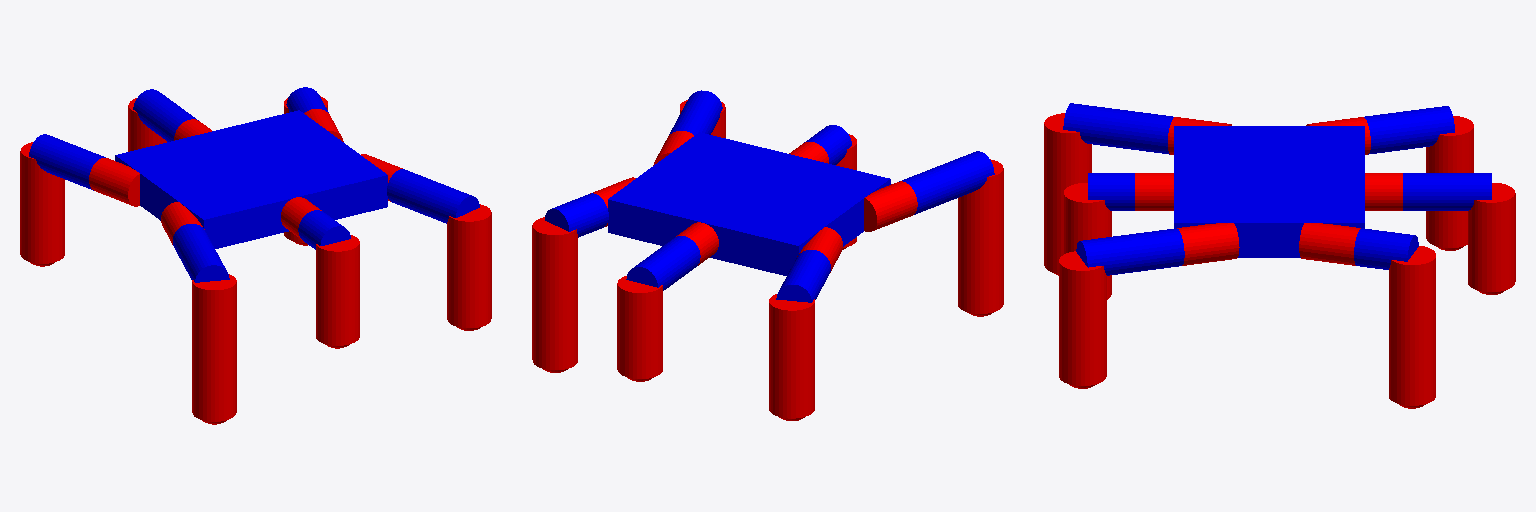
--- Facts derived from the render (not from the file) ---
Views: 3 orthographic renders of the robot side by side, from view 1: azimuth 30°, elevation 25°; view 2: azimuth 150°, elevation 25°; view 3: azimuth 270°, elevation 25°.
Model pexod with 19 links and 18 joints (18 revolute), rooted at base_link, posed all joints at 0.
Links seen in each view (by area): view 1: base_link, leg_5_3, leg_3_3, leg_4_3, leg_0_3, leg_3_2, leg_0_2, leg_5_2, leg_0_1, leg_1_2, leg_4_2, leg_1_3 (+3 smaller); view 2: base_link, leg_2_3, leg_5_3, leg_0_3, leg_1_3, leg_5_2, leg_1_2, leg_5_1, leg_0_2, leg_2_2, leg_3_2, leg_4_2 (+2 smaller); view 3: base_link, leg_2_3, leg_3_3, leg_1_3, leg_5_3, leg_5_2, leg_3_2, leg_0_3, leg_1_2, leg_0_2, leg_4_3, leg_2_1 (+5 smaller).
Link boxes in pixels (x1,y1,x2,y2): base_link: [115, 110, 387, 248]; leg_5_3: [192, 274, 236, 424]; leg_3_3: [447, 204, 491, 330]; leg_4_3: [316, 235, 359, 348]; leg_0_3: [20, 142, 64, 266]; leg_3_2: [387, 169, 479, 223]; leg_0_2: [29, 134, 105, 190]; leg_5_2: [173, 224, 229, 282]; leg_0_1: [89, 158, 139, 206]; leg_1_2: [133, 89, 198, 141]; leg_4_2: [298, 210, 350, 249]; leg_1_3: [128, 98, 166, 151]; base_link: [608, 132, 890, 275]; leg_2_3: [532, 217, 577, 372]; leg_5_3: [958, 159, 1003, 316]; leg_0_3: [769, 294, 814, 420]; leg_1_3: [617, 276, 662, 381]; leg_5_2: [899, 151, 994, 214]; leg_1_2: [626, 236, 700, 290]; leg_5_1: [864, 181, 917, 231]; leg_0_2: [776, 250, 830, 302]; leg_2_2: [545, 193, 608, 237]; leg_3_2: [669, 90, 722, 135]; leg_4_2: [804, 125, 851, 164]; base_link: [1174, 126, 1364, 257]; leg_2_3: [1389, 246, 1435, 408]; leg_3_3: [1059, 251, 1106, 388]; leg_1_3: [1468, 183, 1515, 294]; leg_5_3: [1044, 113, 1091, 275]; leg_5_2: [1063, 103, 1173, 154]; leg_3_2: [1076, 228, 1184, 275]; leg_0_3: [1426, 116, 1473, 250]; leg_1_2: [1403, 173, 1491, 210]; leg_0_2: [1364, 106, 1454, 154]; leg_4_3: [1064, 183, 1111, 299]; leg_2_1: [1299, 223, 1360, 265].
Size in the robot's own frame: 0.3903 by 0.492 by 0.196 metres.
Geometry: primitives only (box / cylinder / sphere), no mesh files.

The robot description file, URDF, robot "pexod":
<?xml version="1.0" ?>
<!-- =================================================================================== -->
<!-- |    This document was autogenerated by xacro from pexod.xacro                    | -->
<!-- |    EDITING THIS FILE BY HAND IS NOT RECOMMENDED                                 | -->
<!-- =================================================================================== -->
<robot name="pexod" xmlns:xacro="http://www.ros.org/wiki/xacro">
  <!-- <xacro:include filename="$(find pexod_description)/urdf/pexod_control.xacro" /> -->
  <!-- MATERIALS -->
  <material name="Blue">
    <color rgba="0 0 1 1"/>
  </material>
  <material name="Red">
    <color rgba="1 0 0 1"/>
  </material>
  <material name="Green">
    <color rgba="0 1 0 1"/>
  </material>
  <material name="Yellow">
    <color rgba="1 1 0 1"/>
  </material>
  <material name="LightGrey">
    <color rgba="0.6 0.6 0.6 1.0"/>
  </material>
  <!-- END OF MATERIALS -->
  <!-- XACRO MACROS FOR VISUALS AND COLLISIONS -->
  <!-- END OF XACRO MACROS -->
  <!-- TORSO -->
  <link name="base_link">
    <visual>
      <origin rpy="0 0 0" xyz="0 0 0"/>
      <geometry>
        <box size="0.24 0.2 0.04"/>
      </geometry>
      <material name="Blue"/>
    </visual>
    <collision>
      <origin rpy="0 0 0" xyz="0 0 0"/>
      <geometry>
        <box size="0.24 0.2 0.04"/>
      </geometry>
    </collision>
    <inertial>
      <!-- CENTER OF MASS -->
      <origin rpy="0 0 0" xyz="0 0 0"/>
      <mass value="1.031"/>
      <!-- box inertia: 1/12*m(y^2+z^2), ... -->
      <inertia ixx="0.00357413333333" ixy="0" ixz="0" iyy="0.00508626666667" iyz="0" izz="0.00838546666667"/>
    </inertial>
  </link>
  <!-- XACRO MACRO FOR LEGS LINKS/JOINTS -->
  <!-- END OF LEG LINKS/JOINTS -->
  <joint name="body_leg_2" type="revolute">
    <parent link="base_link"/>
    <child link="leg_2_1"/>
    <limit effort="30.0" lower="-1.57079632679" upper="1.57079632679" velocity="7.0"/>
    <origin rpy="0 0 -0.3" xyz="0.11 0.04 0"/>
    <!-- <xacro:if value="${index == 5 or index == 4 or index == 3}">
                <axis xyz="0 0 1"/>
            </xacro:if>
            <xacro:if value="${index == 2 or index == 1 or index == 0}"> -->
    <axis xyz="0 0 1"/>
    <!-- </xacro:if> -->
    <dynamics damping="0.0"/>
  </joint>
  <link name="leg_2_1">
    <visual>
      <origin rpy="1.57079632679 0 0" xyz="0.01 0.03 0"/>
      <geometry>
        <cylinder length="0.06" radius="0.02"/>
      </geometry>
      <material name="Red"/>
    </visual>
    <collision>
      <origin rpy="1.57079632679 0 0" xyz="0.01 0.03 0"/>
      <geometry>
        <box size="0.02 0.02 0.06"/>
      </geometry>
    </collision>
    <inertial>
      <!-- CENTER OF MASS -->
      <origin rpy="1.57079632679 0 0" xyz="0.01 0.03 0"/>
      <mass value="0.02"/>
      <!-- box inertia: 1/12*m(y^2+z^2), ... -->
      <inertia ixx="6.66666666667e-06" ixy="0" ixz="0" iyy="6.66666666667e-06" iyz="0" izz="1.33333333333e-06"/>
    </inertial>
  </link>
  <joint name="leg_2_1_2" type="revolute">
    <parent link="leg_2_1"/>
    <child link="leg_2_2"/>
    <limit effort="30.0" lower="-0.78539816339" upper="0.78539816339" velocity="7.0"/>
    <origin rpy="0 0 0" xyz="0 0.06 0"/>
    <axis xyz="1 0 0"/>
    <dynamics damping="0.0"/>
  </joint>
  <link name="leg_2_2">
    <visual>
      <origin rpy="1.57079632679 0 0" xyz="0.01 0.0292048493246 0"/>
      <geometry>
        <cylinder length="0.0584096986492" radius="0.02"/>
      </geometry>
      <material name="Blue"/>
    </visual>
    <collision>
      <origin rpy="1.57079632679 0 0" xyz="0.01 0.0292048493246 0"/>
      <geometry>
        <box size="0.02 0.02 0.0584096986492"/>
      </geometry>
    </collision>
    <inertial>
      <!-- CENTER OF MASS -->
      <origin rpy="1.57079632679 0 0" xyz="0.01 0.0292048493246 0"/>
      <mass value="0.184"/>
      <!-- box inertia: 1/12*m(y^2+z^2), ... -->
      <inertia ixx="5.84459577431e-05" ixy="0" ixz="0" iyy="5.84459577431e-05" iyz="0" izz="1.22666666667e-05"/>
    </inertial>
  </link>
  <joint name="leg_2_2_3" type="revolute">
    <parent link="leg_2_2"/>
    <child link="leg_2_3"/>
    <limit effort="30.0" lower="-0.78539816339" upper="0.78539816339" velocity="7.0"/>
    <origin rpy="-1.57079632679 0 0" xyz="0 0.0584096986492 0"/>
    <axis xyz="-1 0 0"/>
    <dynamics damping="0.0"/>
  </joint>
  <link name="leg_2_3">
    <visual>
      <origin rpy="1.57079632679 0 0" xyz="0.0125 0.081053760138 0"/>
      <geometry>
        <cylinder length="0.162107520276" radius="0.025"/>
      </geometry>
      <material name="Red"/>
    </visual>
    <visual>
      <origin rpy="1.57079632679 0 0" xyz="0.0125 0.149607520276 0"/>
      <geometry>
        <sphere radius="0.025"/>
      </geometry>
      <material name="Red"/>
    </visual>
    <collision>
      <origin rpy="1.57079632679 0 0" xyz="0.0125 0.081053760138 0"/>
      <geometry>
        <box size="0.025 0.025 0.162107520276"/>
      </geometry>
    </collision>
    <collision>
      <origin rpy="1.57079632679 0 0" xyz="0.0125 0.149607520276 0"/>
      <geometry>
        <sphere radius="0.025"/>
      </geometry>
      <material name="Red"/>
    </collision>
    <inertial>
      <!-- CENTER OF MASS -->
      <origin rpy="1.57079632679 0 0" xyz="0.0125 0.081053760138 0"/>
      <mass value="0.04"/>
      <!-- box inertia: 1/12*m(y^2+z^2), ... -->
      <inertia ixx="8.96794937668e-05" ixy="0" ixz="0" iyy="8.96794937668e-05" iyz="0" izz="4.16666666667e-06"/>
    </inertial>
  </link>
  <joint name="body_leg_3" type="revolute">
    <parent link="base_link"/>
    <child link="leg_3_1"/>
    <limit effort="30.0" lower="-1.57079632679" upper="1.57079632679" velocity="7.0"/>
    <origin rpy="0 0 0.3" xyz="0.11 -0.04 0"/>
    <!-- <xacro:if value="${index == 5 or index == 4 or index == 3}">
                <axis xyz="0 0 1"/>
            </xacro:if>
            <xacro:if value="${index == 2 or index == 1 or index == 0}"> -->
    <axis xyz="0 0 1"/>
    <!-- </xacro:if> -->
    <dynamics damping="0.0"/>
  </joint>
  <link name="leg_3_1">
    <visual>
      <origin rpy="1.57079632679 0 0" xyz="0.01 -0.03 0"/>
      <geometry>
        <cylinder length="0.06" radius="0.02"/>
      </geometry>
      <material name="Red"/>
    </visual>
    <collision>
      <origin rpy="1.57079632679 0 0" xyz="0.01 -0.03 0"/>
      <geometry>
        <box size="0.02 0.02 0.06"/>
      </geometry>
    </collision>
    <inertial>
      <!-- CENTER OF MASS -->
      <origin rpy="1.57079632679 0 0" xyz="0.01 -0.03 0"/>
      <mass value="0.02"/>
      <!-- box inertia: 1/12*m(y^2+z^2), ... -->
      <inertia ixx="6.66666666667e-06" ixy="0" ixz="0" iyy="6.66666666667e-06" iyz="0" izz="1.33333333333e-06"/>
    </inertial>
  </link>
  <joint name="leg_3_1_2" type="revolute">
    <parent link="leg_3_1"/>
    <child link="leg_3_2"/>
    <limit effort="30.0" lower="-0.78539816339" upper="0.78539816339" velocity="7.0"/>
    <origin rpy="0 0 0" xyz="0 -0.06 0"/>
    <axis xyz="-1 0 0"/>
    <dynamics damping="0.0"/>
  </joint>
  <link name="leg_3_2">
    <visual>
      <origin rpy="1.57079632679 0 0" xyz="0.01 -0.0530001100515 0"/>
      <geometry>
        <cylinder length="0.106000220103" radius="0.02"/>
      </geometry>
      <material name="Blue"/>
    </visual>
    <collision>
      <origin rpy="1.57079632679 0 0" xyz="0.01 -0.0530001100515 0"/>
      <geometry>
        <box size="0.02 0.02 0.106000220103"/>
      </geometry>
    </collision>
    <inertial>
      <!-- CENTER OF MASS -->
      <origin rpy="1.57079632679 0 0" xyz="0.01 -0.0530001100515 0"/>
      <mass value="0.184"/>
      <!-- box inertia: 1/12*m(y^2+z^2), ... -->
      <inertia ixx="0.000178419382149" ixy="0" ixz="0" iyy="0.000178419382149" iyz="0" izz="1.22666666667e-05"/>
    </inertial>
  </link>
  <joint name="leg_3_2_3" type="revolute">
    <parent link="leg_3_2"/>
    <child link="leg_3_3"/>
    <limit effort="30.0" lower="-0.78539816339" upper="0.78539816339" velocity="7.0"/>
    <origin rpy="1.57079632679 0 0" xyz="0 -0.106000220103 0"/>
    <axis xyz="1 0 0"/>
    <dynamics damping="0.0"/>
  </joint>
  <link name="leg_3_3">
    <visual>
      <origin rpy="1.57079632679 0 0" xyz="0.0125 -0.066371414939 0"/>
      <geometry>
        <cylinder length="0.132742829878" radius="0.025"/>
      </geometry>
      <material name="Red"/>
    </visual>
    <visual>
      <origin rpy="1.57079632679 0 0" xyz="0.0125 -0.120242829878 0"/>
      <geometry>
        <sphere radius="0.025"/>
      </geometry>
      <material name="Red"/>
    </visual>
    <collision>
      <origin rpy="1.57079632679 0 0" xyz="0.0125 -0.066371414939 0"/>
      <geometry>
        <box size="0.025 0.025 0.132742829878"/>
      </geometry>
    </collision>
    <collision>
      <origin rpy="1.57079632679 0 0" xyz="0.0125 -0.120242829878 0"/>
      <geometry>
        <sphere radius="0.025"/>
      </geometry>
      <material name="Red"/>
    </collision>
    <inertial>
      <!-- CENTER OF MASS -->
      <origin rpy="1.57079632679 0 0" xyz="0.0125 -0.066371414939 0"/>
      <mass value="0.04"/>
      <!-- box inertia: 1/12*m(y^2+z^2), ... -->
      <inertia ixx="6.08188629467e-05" ixy="0" ixz="0" iyy="6.08188629467e-05" iyz="0" izz="4.16666666667e-06"/>
    </inertial>
  </link>
  <joint name="body_leg_0" type="revolute">
    <parent link="base_link"/>
    <child link="leg_0_1"/>
    <limit effort="30.0" lower="-1.57079632679" upper="1.57079632679" velocity="7.0"/>
    <origin rpy="0 0 0.3" xyz="-0.13 0.04 0"/>
    <!-- <xacro:if value="${index == 5 or index == 4 or index == 3}">
                <axis xyz="0 0 1"/>
            </xacro:if>
            <xacro:if value="${index == 2 or index == 1 or index == 0}"> -->
    <axis xyz="0 0 1"/>
    <!-- </xacro:if> -->
    <dynamics damping="0.0"/>
  </joint>
  <link name="leg_0_1">
    <visual>
      <origin rpy="1.57079632679 0 0" xyz="0.01 0.03 0"/>
      <geometry>
        <cylinder length="0.06" radius="0.02"/>
      </geometry>
      <material name="Red"/>
    </visual>
    <collision>
      <origin rpy="1.57079632679 0 0" xyz="0.01 0.03 0"/>
      <geometry>
        <box size="0.02 0.02 0.06"/>
      </geometry>
    </collision>
    <inertial>
      <!-- CENTER OF MASS -->
      <origin rpy="1.57079632679 0 0" xyz="0.01 0.03 0"/>
      <mass value="0.02"/>
      <!-- box inertia: 1/12*m(y^2+z^2), ... -->
      <inertia ixx="6.66666666667e-06" ixy="0" ixz="0" iyy="6.66666666667e-06" iyz="0" izz="1.33333333333e-06"/>
    </inertial>
  </link>
  <joint name="leg_0_1_2" type="revolute">
    <parent link="leg_0_1"/>
    <child link="leg_0_2"/>
    <limit effort="30.0" lower="-0.78539816339" upper="0.78539816339" velocity="7.0"/>
    <origin rpy="0 0 0" xyz="0 0.06 0"/>
    <axis xyz="1 0 0"/>
    <dynamics damping="0.0"/>
  </joint>
  <link name="leg_0_2">
    <visual>
      <origin rpy="1.57079632679 0 0" xyz="0.01 0.046004946711 0"/>
      <geometry>
        <cylinder length="0.092009893422" radius="0.02"/>
      </geometry>
      <material name="Blue"/>
    </visual>
    <collision>
      <origin rpy="1.57079632679 0 0" xyz="0.01 0.046004946711 0"/>
      <geometry>
        <box size="0.02 0.02 0.092009893422"/>
      </geometry>
    </collision>
    <inertial>
      <!-- CENTER OF MASS -->
      <origin rpy="1.57079632679 0 0" xyz="0.01 0.046004946711 0"/>
      <mass value="0.184"/>
      <!-- box inertia: 1/12*m(y^2+z^2), ... -->
      <inertia ixx="0.000135942580809" ixy="0" ixz="0" iyy="0.000135942580809" iyz="0" izz="1.22666666667e-05"/>
    </inertial>
  </link>
  <joint name="leg_0_2_3" type="revolute">
    <parent link="leg_0_2"/>
    <child link="leg_0_3"/>
    <limit effort="30.0" lower="-0.78539816339" upper="0.78539816339" velocity="7.0"/>
    <origin rpy="-1.57079632679 0 0" xyz="0 0.092009893422 0"/>
    <axis xyz="-1 0 0"/>
    <dynamics damping="0.0"/>
  </joint>
  <link name="leg_0_3">
    <visual>
      <origin rpy="1.57079632679 0 0" xyz="0.0125 0.0647824888495 0"/>
      <geometry>
        <cylinder length="0.129564977699" radius="0.025"/>
      </geometry>
      <material name="Red"/>
    </visual>
    <visual>
      <origin rpy="1.57079632679 0 0" xyz="0.0125 0.117064977699 0"/>
      <geometry>
        <sphere radius="0.025"/>
      </geometry>
      <material name="Red"/>
    </visual>
    <collision>
      <origin rpy="1.57079632679 0 0" xyz="0.0125 0.0647824888495 0"/>
      <geometry>
        <box size="0.025 0.025 0.129564977699"/>
      </geometry>
    </collision>
    <collision>
      <origin rpy="1.57079632679 0 0" xyz="0.0125 0.117064977699 0"/>
      <geometry>
        <sphere radius="0.025"/>
      </geometry>
      <material name="Red"/>
    </collision>
    <inertial>
      <!-- CENTER OF MASS -->
      <origin rpy="1.57079632679 0 0" xyz="0.0125 0.0647824888495 0"/>
      <mass value="0.04"/>
      <!-- box inertia: 1/12*m(y^2+z^2), ... -->
      <inertia ixx="5.80402781538e-05" ixy="0" ixz="0" iyy="5.80402781538e-05" iyz="0" izz="4.16666666667e-06"/>
    </inertial>
  </link>
  <joint name="body_leg_5" type="revolute">
    <parent link="base_link"/>
    <child link="leg_5_1"/>
    <limit effort="30.0" lower="-1.57079632679" upper="1.57079632679" velocity="7.0"/>
    <origin rpy="0 0 -0.3" xyz="-0.13 -0.04 0"/>
    <!-- <xacro:if value="${index == 5 or index == 4 or index == 3}">
                <axis xyz="0 0 1"/>
            </xacro:if>
            <xacro:if value="${index == 2 or index == 1 or index == 0}"> -->
    <axis xyz="0 0 1"/>
    <!-- </xacro:if> -->
    <dynamics damping="0.0"/>
  </joint>
  <link name="leg_5_1">
    <visual>
      <origin rpy="1.57079632679 0 0" xyz="0.01 -0.03 0"/>
      <geometry>
        <cylinder length="0.06" radius="0.02"/>
      </geometry>
      <material name="Red"/>
    </visual>
    <collision>
      <origin rpy="1.57079632679 0 0" xyz="0.01 -0.03 0"/>
      <geometry>
        <box size="0.02 0.02 0.06"/>
      </geometry>
    </collision>
    <inertial>
      <!-- CENTER OF MASS -->
      <origin rpy="1.57079632679 0 0" xyz="0.01 -0.03 0"/>
      <mass value="0.02"/>
      <!-- box inertia: 1/12*m(y^2+z^2), ... -->
      <inertia ixx="6.66666666667e-06" ixy="0" ixz="0" iyy="6.66666666667e-06" iyz="0" izz="1.33333333333e-06"/>
    </inertial>
  </link>
  <joint name="leg_5_1_2" type="revolute">
    <parent link="leg_5_1"/>
    <child link="leg_5_2"/>
    <limit effort="30.0" lower="-0.78539816339" upper="0.78539816339" velocity="7.0"/>
    <origin rpy="0 0 0" xyz="0 -0.06 0"/>
    <axis xyz="-1 0 0"/>
    <dynamics damping="0.0"/>
  </joint>
  <link name="leg_5_2">
    <visual>
      <origin rpy="1.57079632679 0 0" xyz="0.01 -0.0570124812155 0"/>
      <geometry>
        <cylinder length="0.114024962431" radius="0.02"/>
      </geometry>
      <material name="Blue"/>
    </visual>
    <collision>
      <origin rpy="1.57079632679 0 0" xyz="0.01 -0.0570124812155 0"/>
      <geometry>
        <box size="0.02 0.02 0.114024962431"/>
      </geometry>
    </collision>
    <inertial>
      <!-- CENTER OF MASS -->
      <origin rpy="1.57079632679 0 0" xyz="0.01 -0.0570124812155 0"/>
      <mass value="0.184"/>
      <!-- box inertia: 1/12*m(y^2+z^2), ... -->
      <inertia ixx="0.000205492611547" ixy="0" ixz="0" iyy="0.000205492611547" iyz="0" izz="1.22666666667e-05"/>
    </inertial>
  </link>
  <joint name="leg_5_2_3" type="revolute">
    <parent link="leg_5_2"/>
    <child link="leg_5_3"/>
    <limit effort="30.0" lower="-0.78539816339" upper="0.78539816339" velocity="7.0"/>
    <origin rpy="1.57079632679 0 0" xyz="0 -0.114024962431 0"/>
    <axis xyz="1 0 0"/>
    <dynamics damping="0.0"/>
  </joint>
  <link name="leg_5_3">
    <visual>
      <origin rpy="1.57079632679 0 0" xyz="0.0125 -0.0817643147595 0"/>
      <geometry>
        <cylinder length="0.163528629519" radius="0.025"/>
      </geometry>
      <material name="Red"/>
    </visual>
    <visual>
      <origin rpy="1.57079632679 0 0" xyz="0.0125 -0.151028629519 0"/>
      <geometry>
        <sphere radius="0.025"/>
      </geometry>
      <material name="Red"/>
    </visual>
    <collision>
      <origin rpy="1.57079632679 0 0" xyz="0.0125 -0.0817643147595 0"/>
      <geometry>
        <box size="0.025 0.025 0.163528629519"/>
      </geometry>
    </collision>
    <collision>
      <origin rpy="1.57079632679 0 0" xyz="0.0125 -0.151028629519 0"/>
      <geometry>
        <sphere radius="0.025"/>
      </geometry>
      <material name="Red"/>
    </collision>
    <inertial>
      <!-- CENTER OF MASS -->
      <origin rpy="1.57079632679 0 0" xyz="0.0125 -0.0817643147595 0"/>
      <mass value="0.04"/>
      <!-- box inertia: 1/12*m(y^2+z^2), ... -->
      <inertia ixx="9.12220422412e-05" ixy="0" ixz="0" iyy="9.12220422412e-05" iyz="0" izz="4.16666666667e-06"/>
    </inertial>
  </link>
  <joint name="body_leg_1" type="revolute">
    <parent link="base_link"/>
    <child link="leg_1_1"/>
    <limit effort="30.0" lower="-1.57079632679" upper="1.57079632679" velocity="7.0"/>
    <origin rpy="0 0 0" xyz="-0.01 0.08 0"/>
    <!-- <xacro:if value="${index == 5 or index == 4 or index == 3}">
                <axis xyz="0 0 1"/>
            </xacro:if>
            <xacro:if value="${index == 2 or index == 1 or index == 0}"> -->
    <axis xyz="0 0 1"/>
    <!-- </xacro:if> -->
    <dynamics damping="0.0"/>
  </joint>
  <link name="leg_1_1">
    <visual>
      <origin rpy="1.57079632679 0 0" xyz="0.01 0.03 0"/>
      <geometry>
        <cylinder length="0.06" radius="0.02"/>
      </geometry>
      <material name="Red"/>
    </visual>
    <collision>
      <origin rpy="1.57079632679 0 0" xyz="0.01 0.03 0"/>
      <geometry>
        <box size="0.02 0.02 0.06"/>
      </geometry>
    </collision>
    <inertial>
      <!-- CENTER OF MASS -->
      <origin rpy="1.57079632679 0 0" xyz="0.01 0.03 0"/>
      <mass value="0.02"/>
      <!-- box inertia: 1/12*m(y^2+z^2), ... -->
      <inertia ixx="6.66666666667e-06" ixy="0" ixz="0" iyy="6.66666666667e-06" iyz="0" izz="1.33333333333e-06"/>
    </inertial>
  </link>
  <joint name="leg_1_1_2" type="revolute">
    <parent link="leg_1_1"/>
    <child link="leg_1_2"/>
    <limit effort="30.0" lower="-0.78539816339" upper="0.78539816339" velocity="7.0"/>
    <origin rpy="0 0 0" xyz="0 0.06 0"/>
    <axis xyz="1 0 0"/>
    <dynamics damping="0.0"/>
  </joint>
  <link name="leg_1_2">
    <visual>
      <origin rpy="1.57079632679 0 0" xyz="0.01 0.0460774121949 0"/>
      <geometry>
        <cylinder length="0.0921548243897" radius="0.02"/>
      </geometry>
      <material name="Blue"/>
    </visual>
    <collision>
      <origin rpy="1.57079632679 0 0" xyz="0.01 0.0460774121949 0"/>
      <geometry>
        <box size="0.02 0.02 0.0921548243897"/>
      </geometry>
    </collision>
    <inertial>
      <!-- CENTER OF MASS -->
      <origin rpy="1.57079632679 0 0" xyz="0.01 0.0460774121949 0"/>
      <mass value="0.184"/>
      <!-- box inertia: 1/12*m(y^2+z^2), ... -->
      <inertia ixx="0.000136351845427" ixy="0" ixz="0" iyy="0.000136351845427" iyz="0" izz="1.22666666667e-05"/>
    </inertial>
  </link>
  <joint name="leg_1_2_3" type="revolute">
    <parent link="leg_1_2"/>
    <child link="leg_1_3"/>
    <limit effort="30.0" lower="-0.78539816339" upper="0.78539816339" velocity="7.0"/>
    <origin rpy="-1.57079632679 0 0" xyz="0 0.0921548243897 0"/>
    <axis xyz="-1 0 0"/>
    <dynamics damping="0.0"/>
  </joint>
  <link name="leg_1_3">
    <visual>
      <origin rpy="1.57079632679 0 0" xyz="0.0125 0.0516465854435 0"/>
      <geometry>
        <cylinder length="0.103293170887" radius="0.025"/>
      </geometry>
      <material name="Red"/>
    </visual>
    <visual>
      <origin rpy="1.57079632679 0 0" xyz="0.0125 0.090793170887 0"/>
      <geometry>
        <sphere radius="0.025"/>
      </geometry>
      <material name="Red"/>
    </visual>
    <collision>
      <origin rpy="1.57079632679 0 0" xyz="0.0125 0.0516465854435 0"/>
      <geometry>
        <box size="0.025 0.025 0.103293170887"/>
      </geometry>
    </collision>
    <collision>
      <origin rpy="1.57079632679 0 0" xyz="0.0125 0.090793170887 0"/>
      <geometry>
        <sphere radius="0.025"/>
      </geometry>
      <material name="Red"/>
    </collision>
    <inertial>
      <!-- CENTER OF MASS -->
      <origin rpy="1.57079632679 0 0" xyz="0.0125 0.0516465854435 0"/>
      <mass value="0.04"/>
      <!-- box inertia: 1/12*m(y^2+z^2), ... -->
      <inertia ixx="3.76482638396e-05" ixy="0" ixz="0" iyy="3.76482638396e-05" iyz="0" izz="4.16666666667e-06"/>
    </inertial>
  </link>
  <joint name="body_leg_4" type="revolute">
    <parent link="base_link"/>
    <child link="leg_4_1"/>
    <limit effort="30.0" lower="-1.57079632679" upper="1.57079632679" velocity="7.0"/>
    <origin rpy="0 0 0" xyz="-0.01 -0.08 0"/>
    <!-- <xacro:if value="${index == 5 or index == 4 or index == 3}">
                <axis xyz="0 0 1"/>
            </xacro:if>
            <xacro:if value="${index == 2 or index == 1 or index == 0}"> -->
    <axis xyz="0 0 1"/>
    <!-- </xacro:if> -->
    <dynamics damping="0.0"/>
  </joint>
  <link name="leg_4_1">
    <visual>
      <origin rpy="1.57079632679 0 0" xyz="0.01 -0.03 0"/>
      <geometry>
        <cylinder length="0.06" radius="0.02"/>
      </geometry>
      <material name="Red"/>
    </visual>
    <collision>
      <origin rpy="1.57079632679 0 0" xyz="0.01 -0.03 0"/>
      <geometry>
        <box size="0.02 0.02 0.06"/>
      </geometry>
    </collision>
    <inertial>
      <!-- CENTER OF MASS -->
      <origin rpy="1.57079632679 0 0" xyz="0.01 -0.03 0"/>
      <mass value="0.02"/>
      <!-- box inertia: 1/12*m(y^2+z^2), ... -->
      <inertia ixx="6.66666666667e-06" ixy="0" ixz="0" iyy="6.66666666667e-06" iyz="0" izz="1.33333333333e-06"/>
    </inertial>
  </link>
  <joint name="leg_4_1_2" type="revolute">
    <parent link="leg_4_1"/>
    <child link="leg_4_2"/>
    <limit effort="30.0" lower="-0.78539816339" upper="0.78539816339" velocity="7.0"/>
    <origin rpy="0 0 0" xyz="0 -0.06 0"/>
    <axis xyz="-1 0 0"/>
    <dynamics damping="0.0"/>
  </joint>
  <link name="leg_4_2">
    <visual>
      <origin rpy="1.57079632679 0 0" xyz="0.01 -0.0248901907418 0"/>
      <geometry>
        <cylinder length="0.0497803814836" radius="0.02"/>
      </geometry>
      <material name="Blue"/>
    </visual>
    <collision>
      <origin rpy="1.57079632679 0 0" xyz="0.01 -0.0248901907418 0"/>
      <geometry>
        <box size="0.02 0.02 0.0497803814836"/>
      </geometry>
    </collision>
    <inertial>
      <!-- CENTER OF MASS -->
      <origin rpy="1.57079632679 0 0" xyz="0.01 -0.0248901907418 0"/>
      <mass value="0.184"/>
      <!-- box inertia: 1/12*m(y^2+z^2), ... -->
      <inertia ixx="4.41306578367e-05" ixy="0" ixz="0" iyy="4.41306578367e-05" iyz="0" izz="1.22666666667e-05"/>
    </inertial>
  </link>
  <joint name="leg_4_2_3" type="revolute">
    <parent link="leg_4_2"/>
    <child link="leg_4_3"/>
    <limit effort="30.0" lower="-0.78539816339" upper="0.78539816339" velocity="7.0"/>
    <origin rpy="1.57079632679 0 0" xyz="0 -0.0497803814836 0"/>
    <axis xyz="1 0 0"/>
    <dynamics damping="0.0"/>
  </joint>
  <link name="leg_4_3">
    <visual>
      <origin rpy="1.57079632679 0 0" xyz="0.0125 -0.05860852064 0"/>
      <geometry>
        <cylinder length="0.11721704128" radius="0.025"/>
      </geometry>
      <material name="Red"/>
    </visual>
    <visual>
      <origin rpy="1.57079632679 0 0" xyz="0.0125 -0.10471704128 0"/>
      <geometry>
        <sphere radius="0.025"/>
      </geometry>
      <material name="Red"/>
    </visual>
    <collision>
      <origin rpy="1.57079632679 0 0" xyz="0.0125 -0.05860852064 0"/>
      <geometry>
        <box size="0.025 0.025 0.11721704128"/>
      </geometry>
    </collision>
    <collision>
      <origin rpy="1.57079632679 0 0" xyz="0.0125 -0.10471704128 0"/>
      <geometry>
        <sphere radius="0.025"/>
      </geometry>
      <material name="Red"/>
    </collision>
    <inertial>
      <!-- CENTER OF MASS -->
      <origin rpy="1.57079632679 0 0" xyz="0.0125 -0.05860852064 0"/>
      <mass value="0.04"/>
      <!-- box inertia: 1/12*m(y^2+z^2), ... -->
      <inertia ixx="4.78827825548e-05" ixy="0" ixz="0" iyy="4.78827825548e-05" iyz="0" izz="4.16666666667e-06"/>
    </inertial>
  </link>
  <!-- END OF LEG LINKS/JOINTS -->
</robot>
